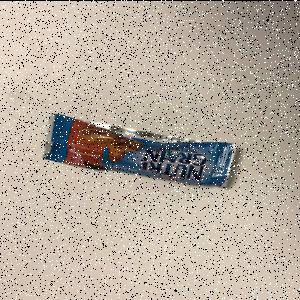Trash: (42, 114, 240, 191)
